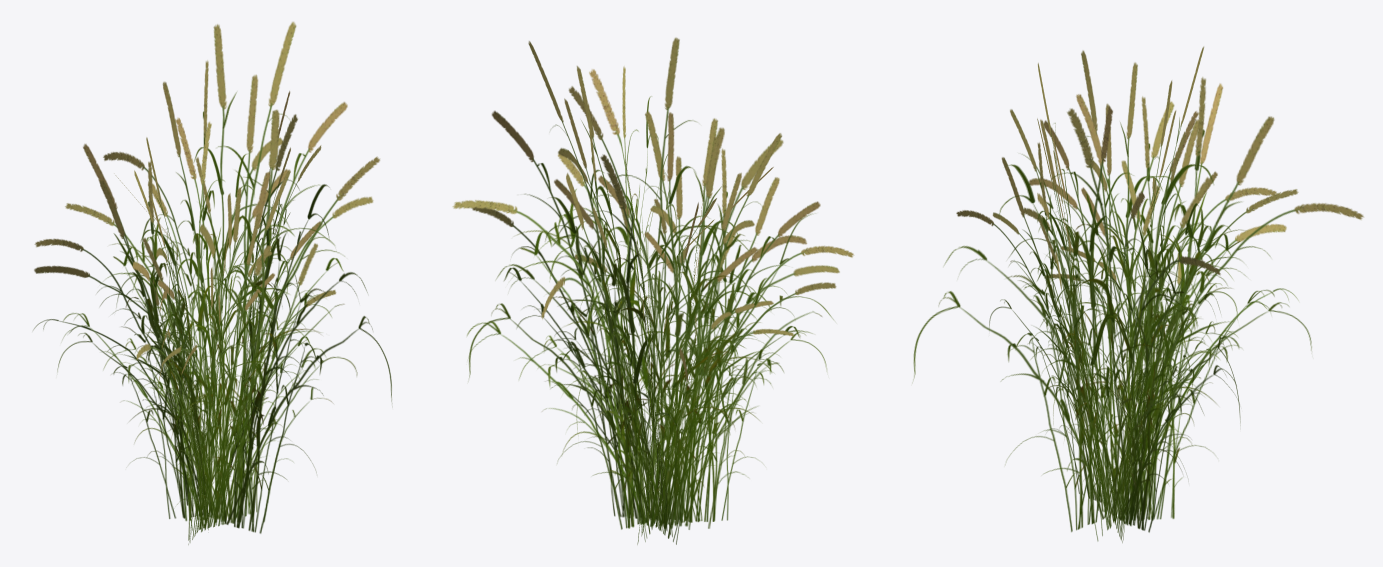
File: tall_high.glb
3 views of the same model, side by side, from view 1: azimuth 30°, elevation 25°; view 2: azimuth 150°, elevation 25°; view 3: azimuth 270°, elevation 25° (orthographic). The views are drawn at different scales.
Visible parts, largest first — view 1: tall_high; view 2: tall_high; view 3: tall_high.
Part boxes in pixels (x1,y1,x2,y2): tall_high: (33,21,391,544); tall_high: (452,37,854,544); tall_high: (913,46,1363,542).
Size of the model in its own units: 0.689 by 0.996 by 0.8336.
1 material, 1 textured.
